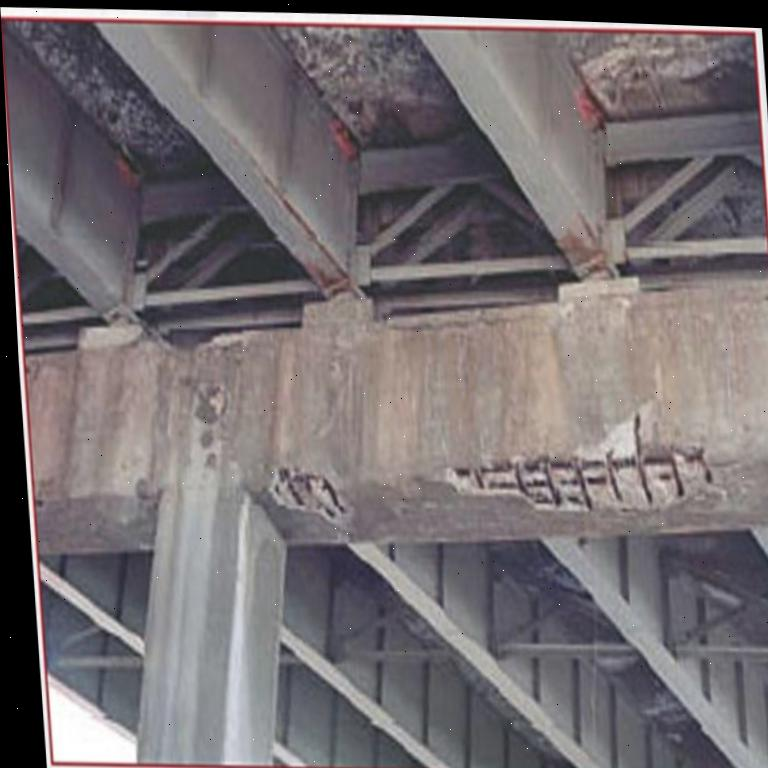spalling: (445, 402, 723, 512), (268, 465, 352, 529)
